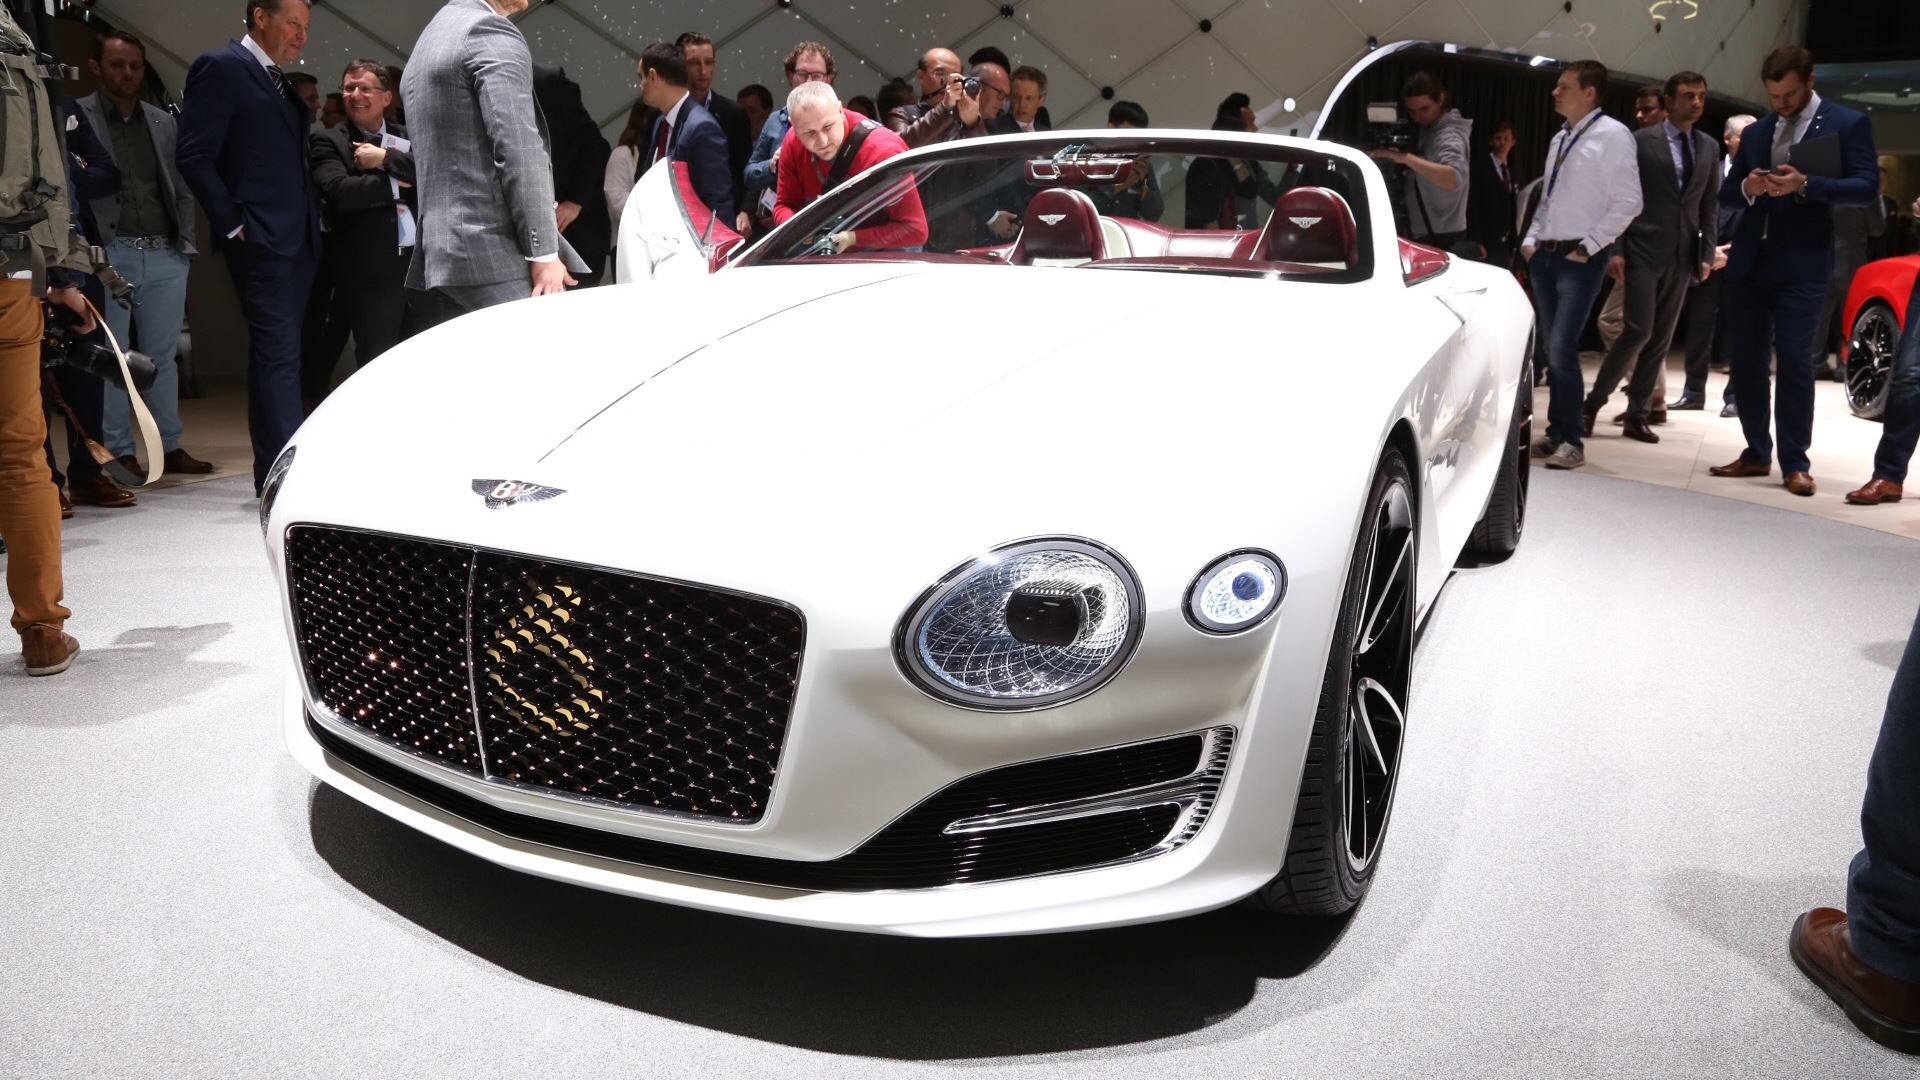car: (262, 128, 1520, 945)
